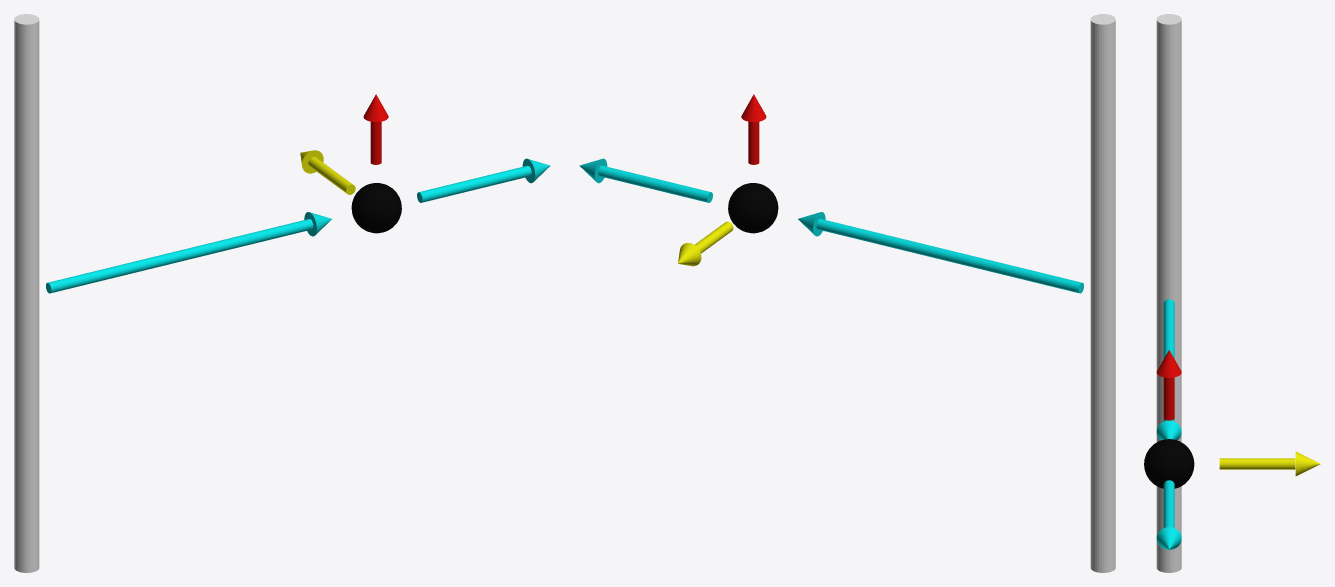
Rendered from Biot Savart.glb.
3 views of the same model, side by side, from view 1: azimuth 30°, elevation 25°; view 2: azimuth 150°, elevation 25°; view 3: azimuth 270°, elevation 25° (orthographic).
Visible parts, largest first — view 1: Cylinder, Cylinder.001, Sphere, Cylinder.003; view 2: Cylinder, Cylinder.001, Sphere, Cylinder.003; view 3: Cylinder, Sphere, Cylinder.004, Cylinder.001, Cylinder.003, Cylinder.002, Cone.002, Cone, Cone.001, Cone.003.
Boxes of the visible parts, <box> form: Cylinder: <box>14,14,39,572</box>; Cylinder.001: <box>46,219,313,293</box>; Sphere: <box>351,183,401,233</box>; Cylinder.003: <box>417,165,531,202</box>; Cylinder: <box>1090,14,1115,572</box>; Cylinder.001: <box>816,219,1083,293</box>; Sphere: <box>728,183,778,233</box>; Cylinder.003: <box>598,165,712,202</box>; Cylinder: <box>1156,14,1181,572</box>; Sphere: <box>1144,439,1194,488</box>; Cylinder.004: <box>1219,458,1295,469</box>; Cylinder.001: <box>1163,299,1174,421</box>; Cylinder.003: <box>1163,480,1174,527</box>; Cylinder.002: <box>1163,377,1174,420</box>; Cone.002: <box>1156,527,1181,549</box>; Cone: <box>1156,420,1181,440</box>; Cone.001: <box>1156,350,1181,377</box>; Cone.003: <box>1295,451,1320,476</box>.
Size of the model in its own units: 24.5 by 24 by 7.02.
